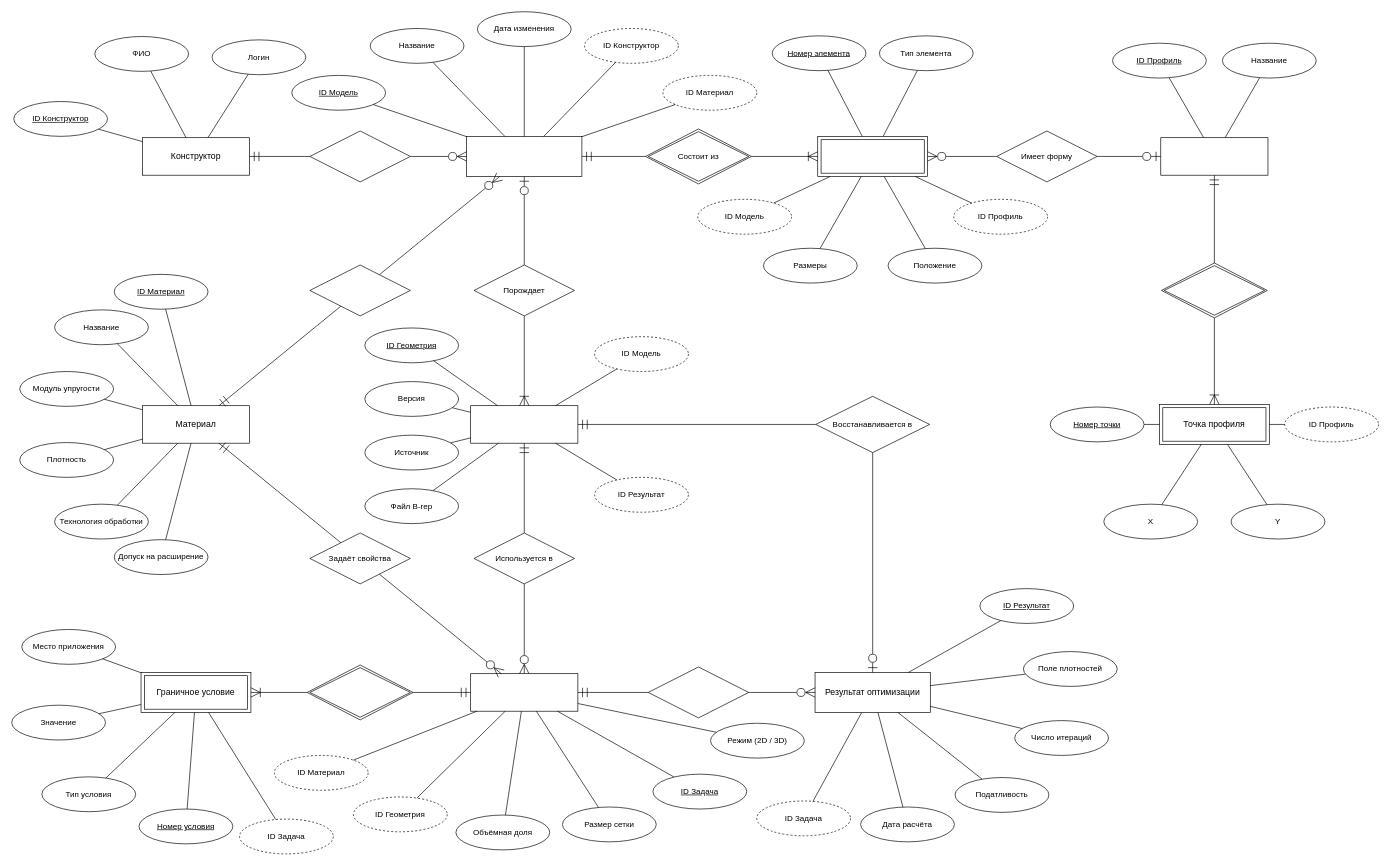
Image size: 1390x866. Some labels were removed from this diagram. The box of each missing label's shape, as (x1, y1, x2, y2) in pixels:
Геометрия (B-rep): (470, 405, 578, 443)
Даёт: (648, 666, 749, 718)
Назначается: (309, 264, 410, 316)
Описывается: (1161, 262, 1267, 318)
Параметрическая модель: (466, 136, 582, 177)
Профиль крыла: (1160, 137, 1268, 175)
Расчётная задача: (470, 673, 578, 711)
Содержит: (307, 664, 413, 720)
Создаёт: (309, 130, 410, 182)
Элемент каркаса: (817, 136, 928, 177)
